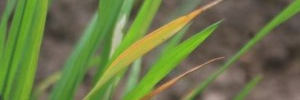RiceTungro: (94, 26, 209, 55)
